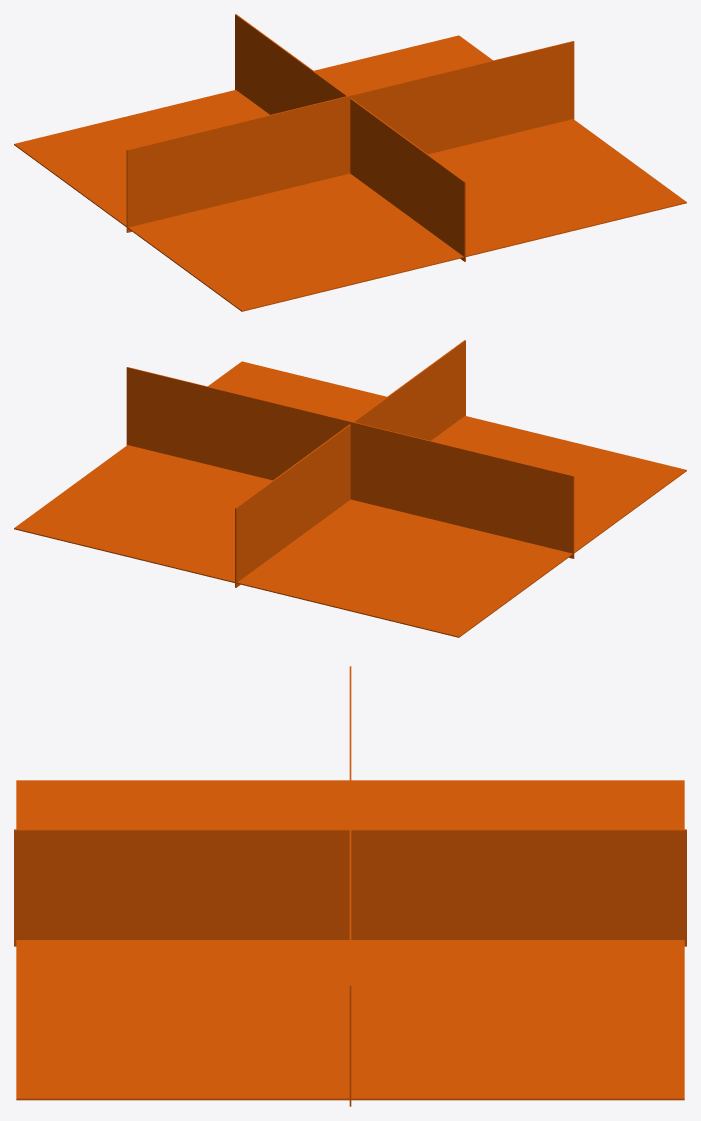
File: mousepad reference box.glb
3 renders of one model, top to bottom at view 1: azimuth 30°, elevation 25°; view 2: azimuth 150°, elevation 25°; view 3: azimuth 270°, elevation 25°, orthographic. The views are drawn at different scales.
Parts seen in each view (by area): view 1: Cube.001; view 2: Cube.001; view 3: Cube.001.
Boxes of the visible parts, x1,y1,x2,y2 form: Cube.001: (14,14,686,311); Cube.001: (14,340,686,637); Cube.001: (14,666,686,1106).
Bounding box in the file's own units: 17.77 × 3.14 × 15.81.
